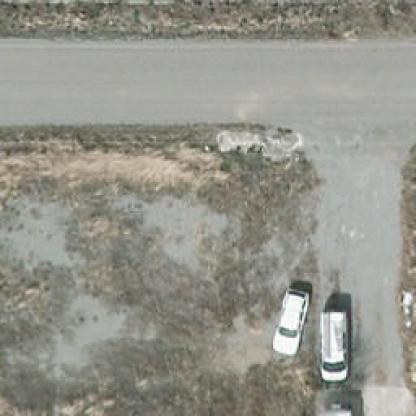car: (260, 284, 310, 360)
van: (316, 310, 350, 384)
